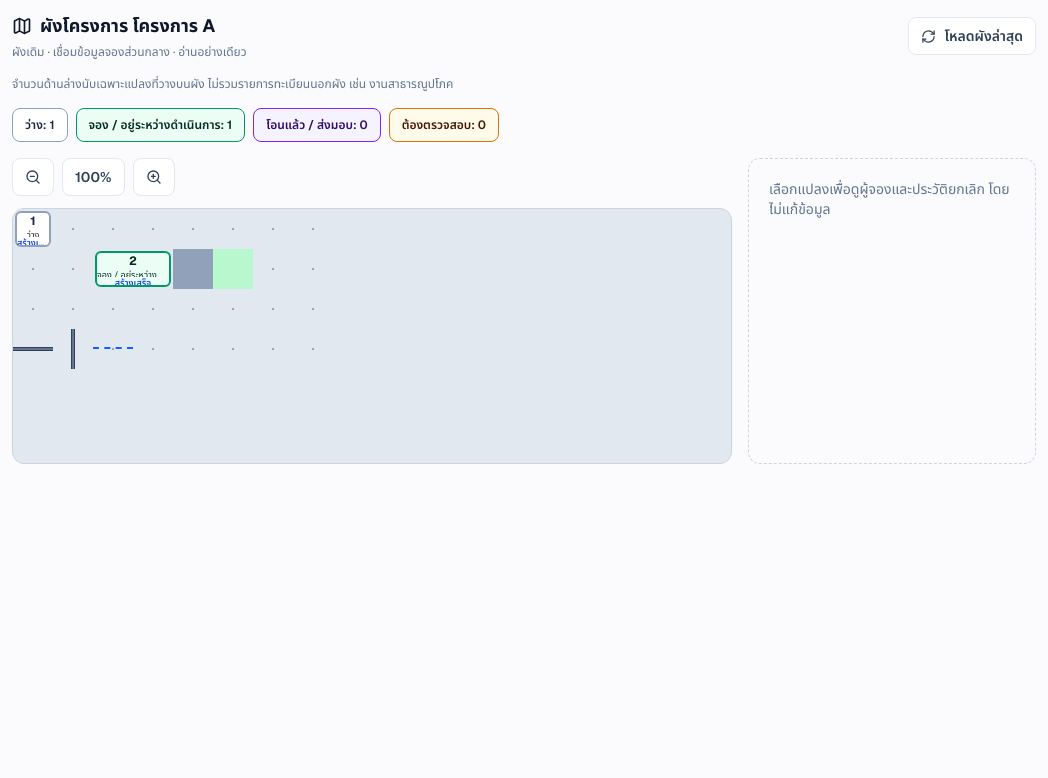
Test case: central booking read-only project map › hides stale data on refresh and sanitizes failure
Click the button with aria-label "แปลง 2 — จอง / อยู่ระหว่างดำเนินการ": [133, 269] box [93, 249, 173, 289]
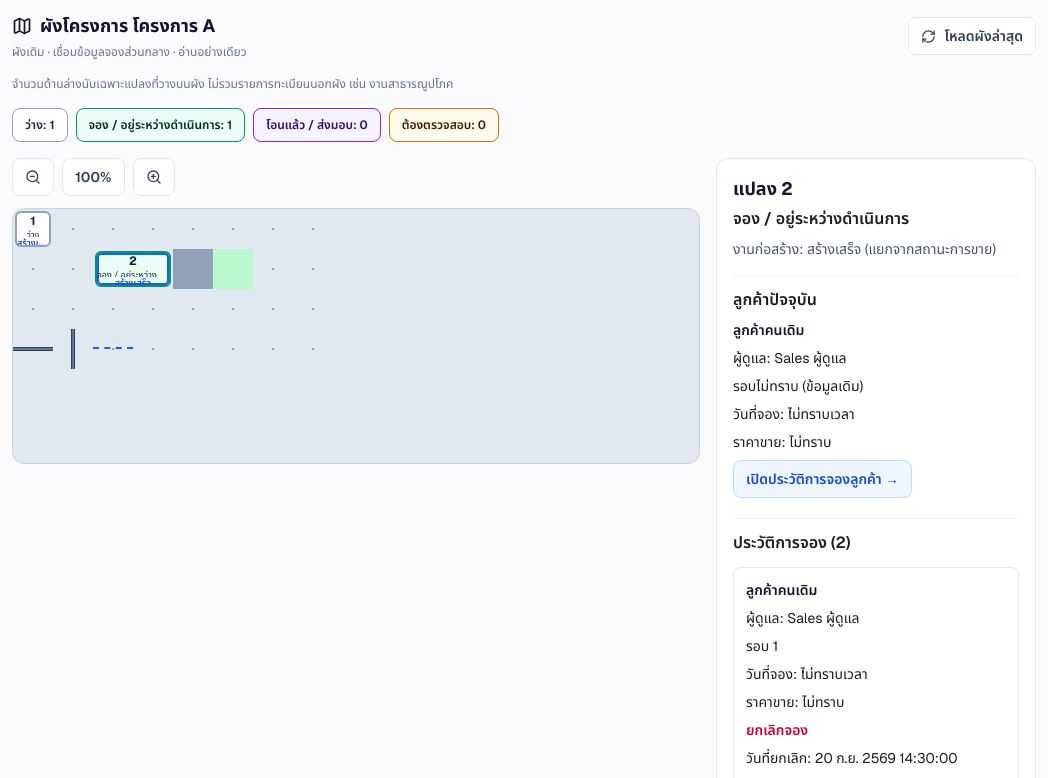
Click the button "โหลดผังล่าสุด": [972, 36] box [908, 17, 1036, 55]
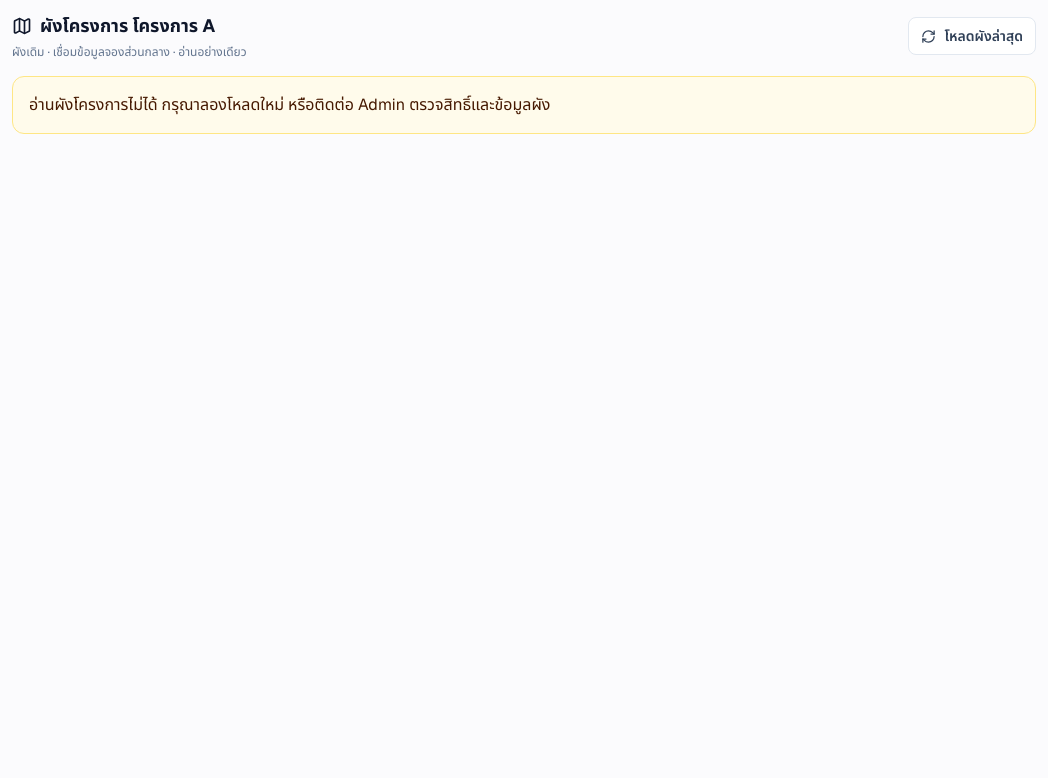
Check: the text "ลูกค้าคนเดิม" is gone
Check: the element with test id "saved-project-layout" is gone
Check: the message shows "อ่านผังโครงการไม่ได้", box [29, 94, 550, 115]
